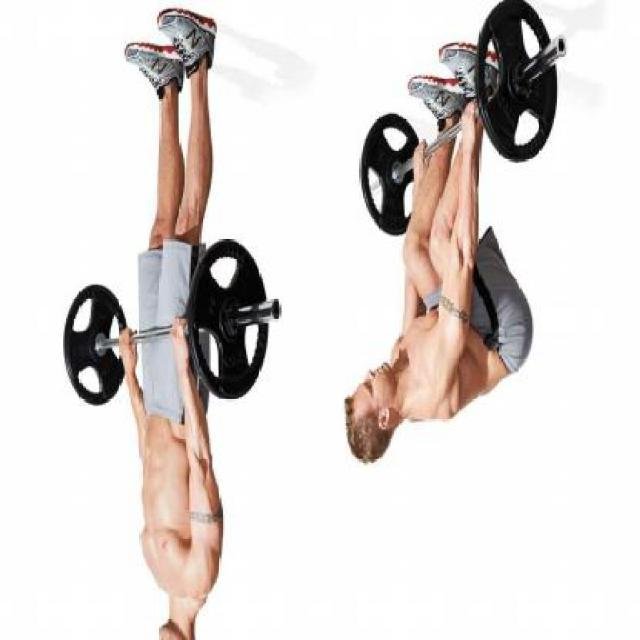Barbell: (553, 30, 569, 61), (269, 296, 283, 324)
